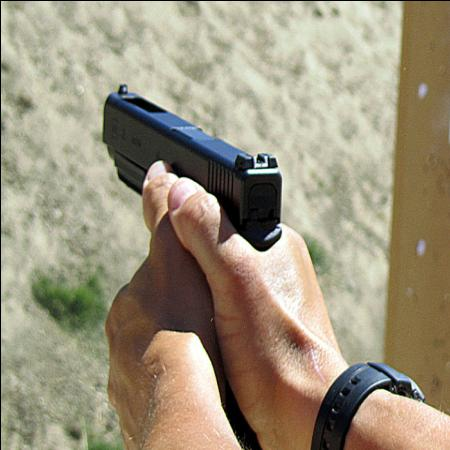Pistol: (94, 76, 284, 285)
